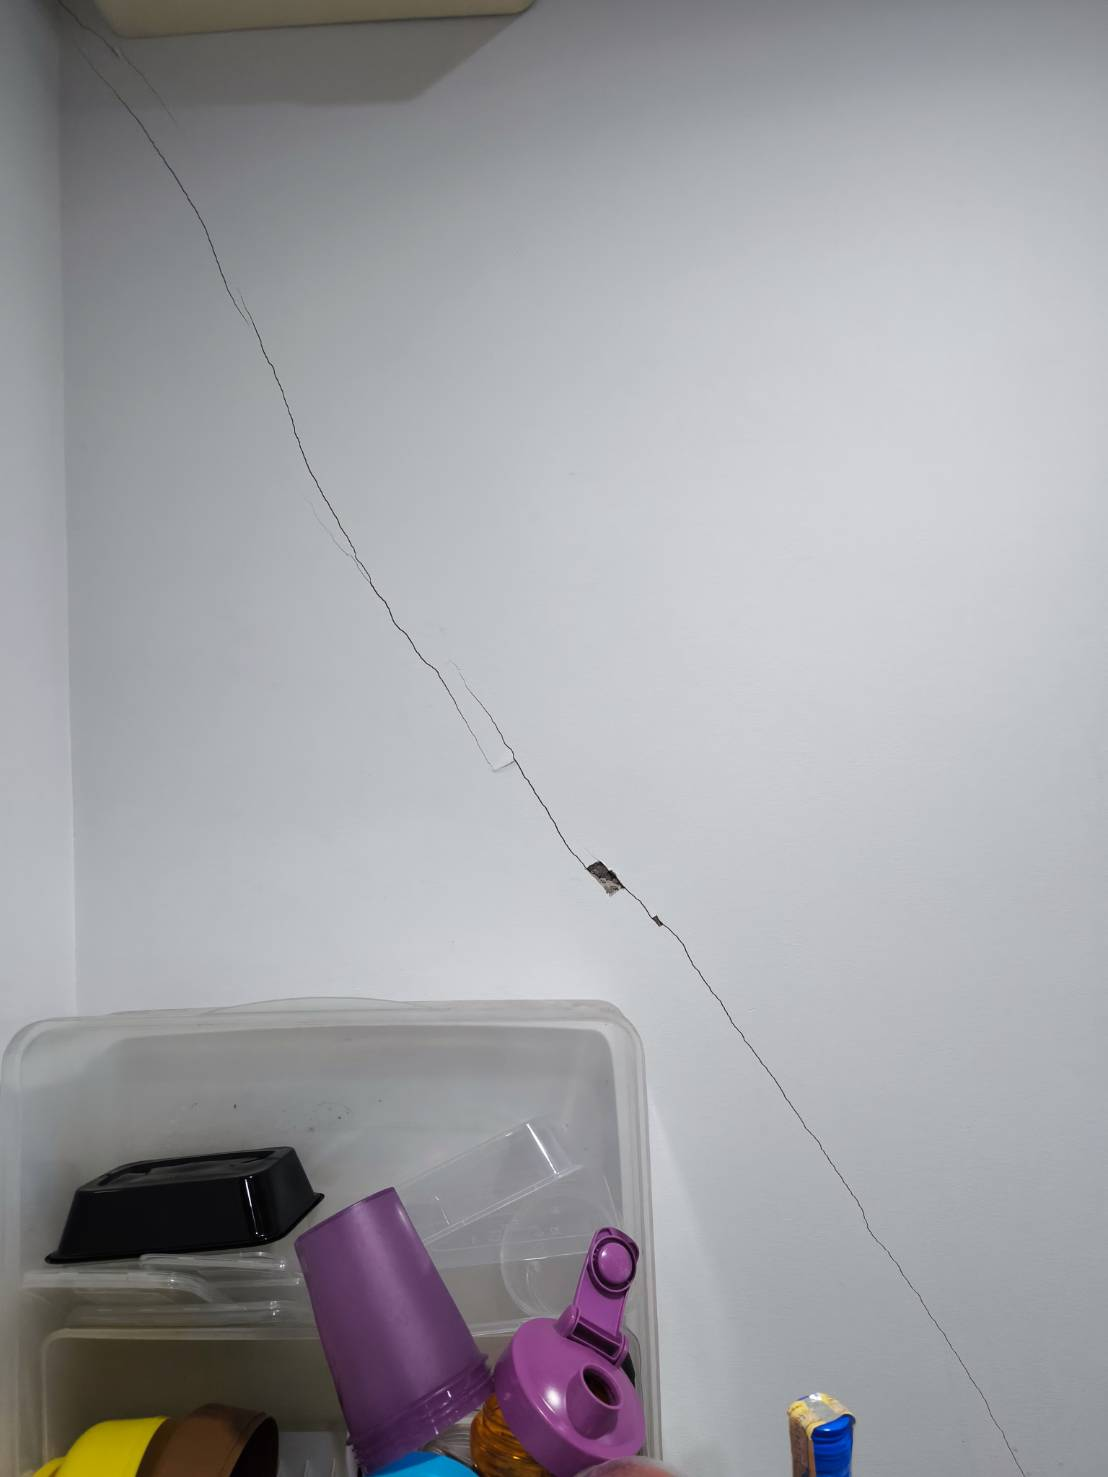Low: (55, 34, 783, 986)
